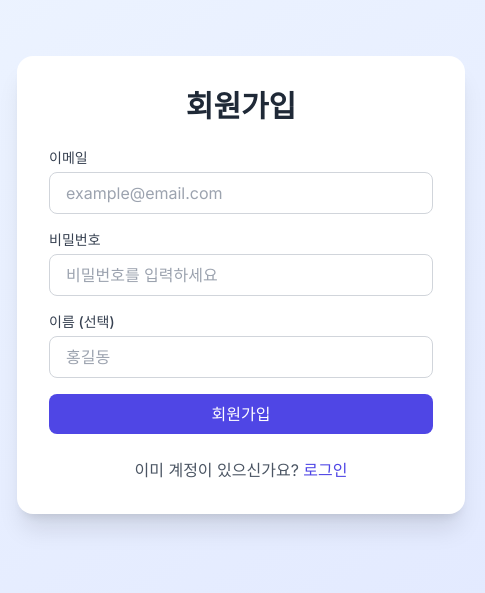
Test: RegisterPage › Error handling › should display error message when registration fails
In the field labelled "이메일": (241, 193) [49,172,433,214], type "test@example.com"
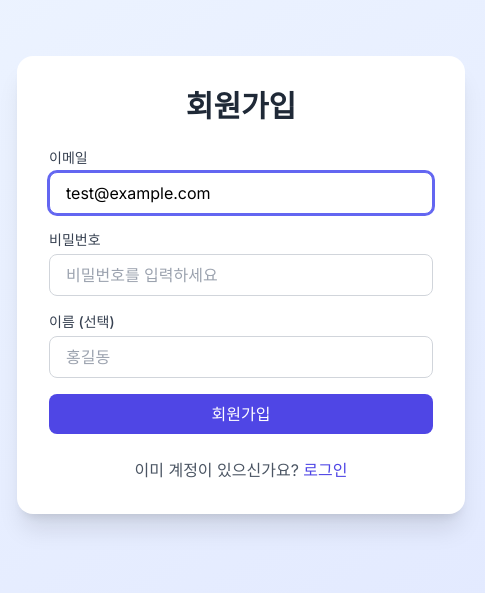
In the password field labelled "비밀번호": (241, 275) [49,254,433,296], type "password123"
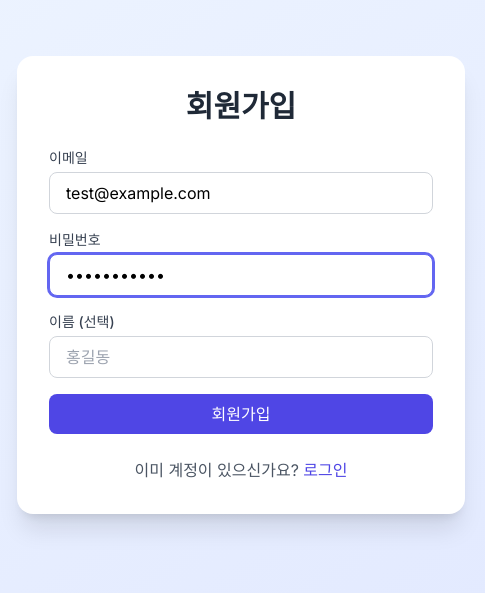
Click the button "회원가입": (241, 414) [49,394,433,434]
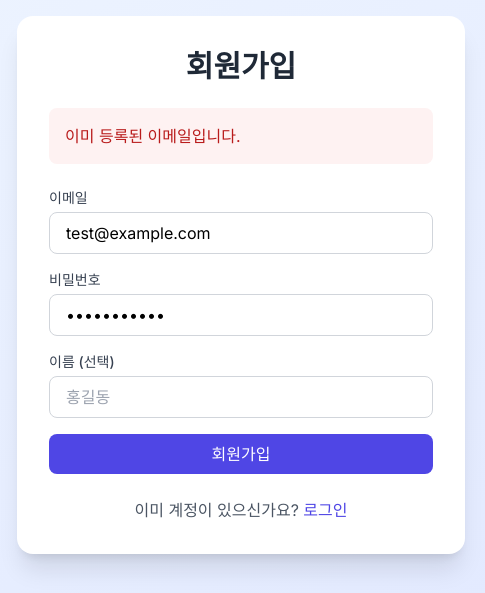
expect the text "이미 등록된 이메일입니다." is shown: met, box [49,108,433,164]
